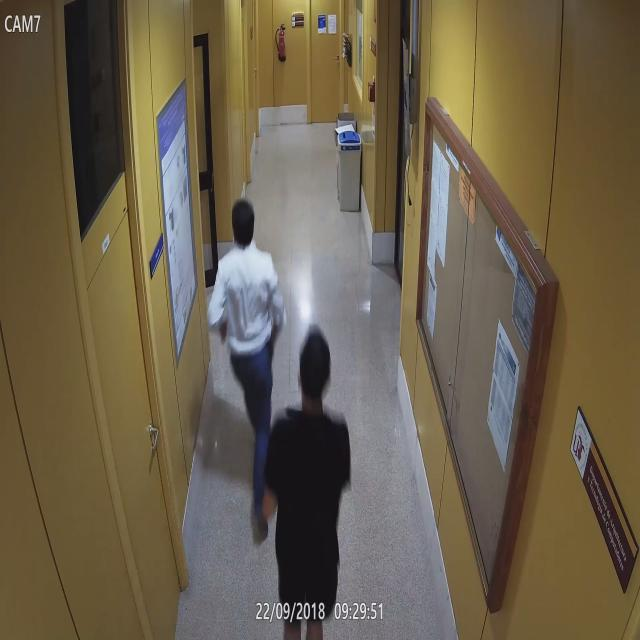Gun: (281, 398, 304, 420)
